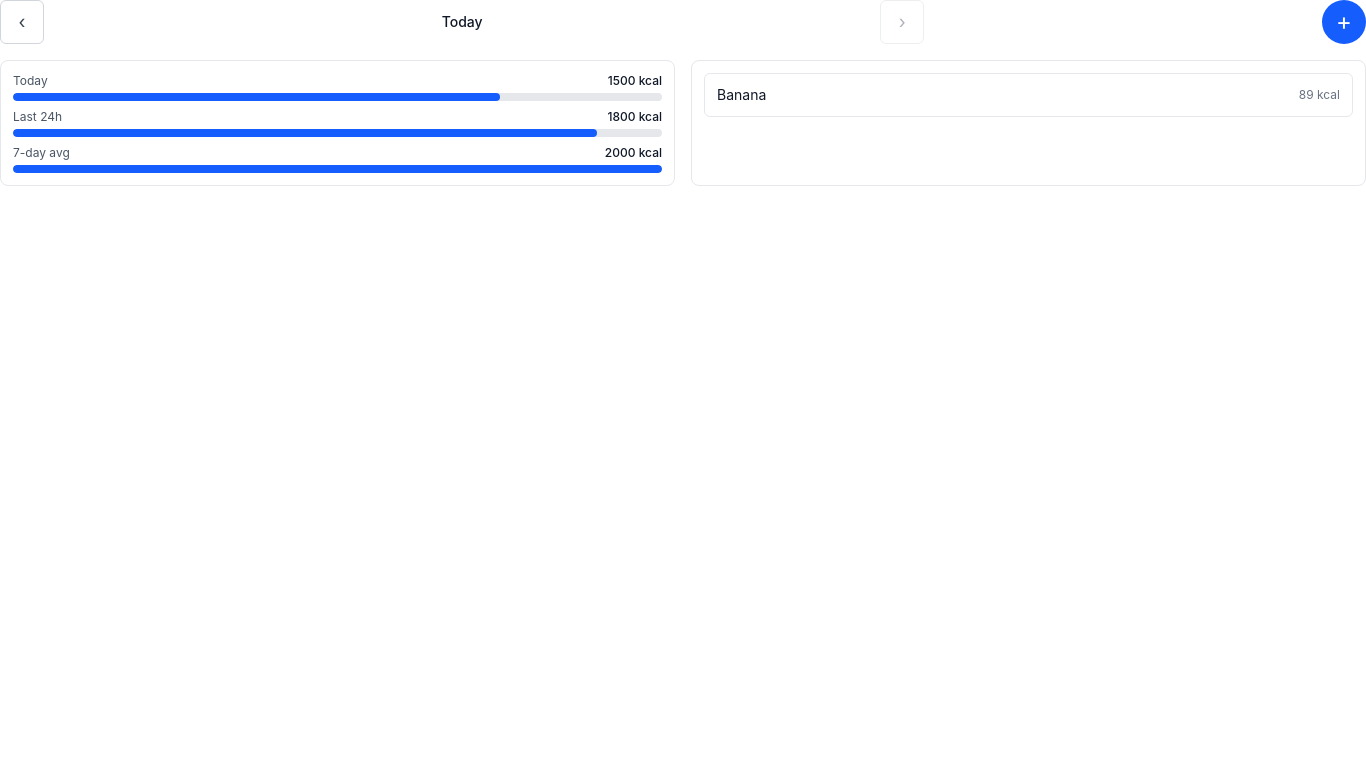
Diary › tapping a card opens the edit popup
This screenshot has width=1366, height=768.
Later steps or results of the test are not shown.
Click the text "Banana" at (742,95), box top-left (717, 85), bottom-right (766, 105)
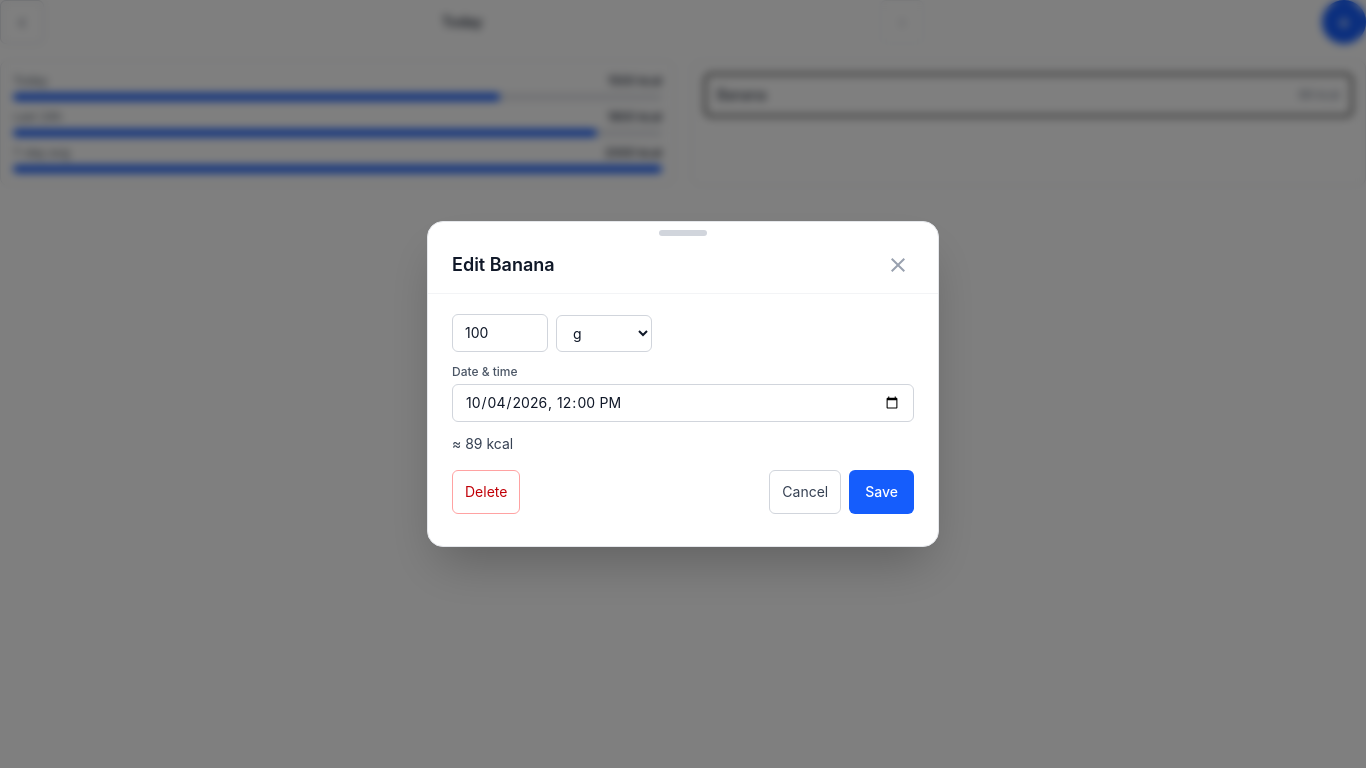
Result: the dialog "Edit Banana Date & time ≈ 89 kcal Delete Cancel Save" is shown at top-left (427, 221), bottom-right (939, 547)
Result: the text "≈ 89 kcal" is shown at top-left (452, 435), bottom-right (513, 452)
